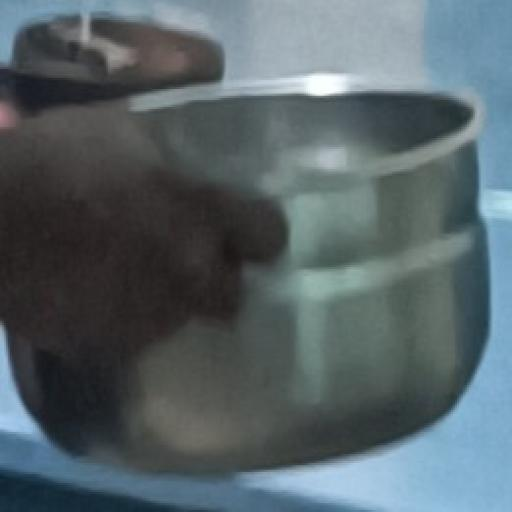vessel: (45, 73, 488, 467)
